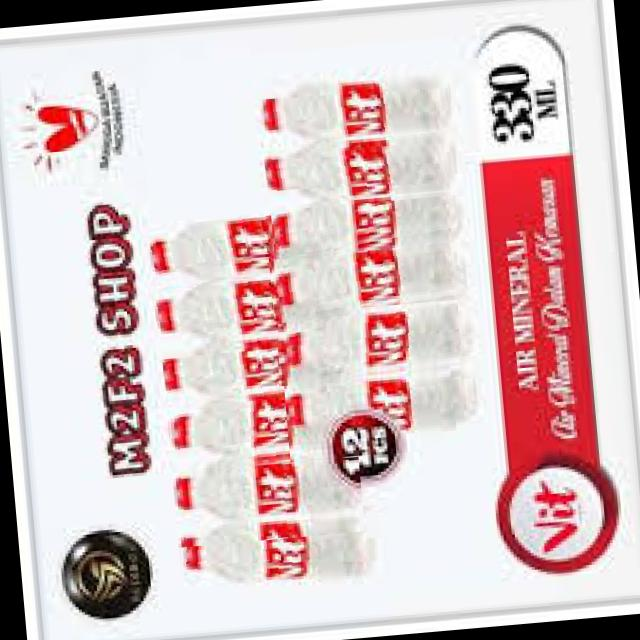plastic bottle: (168, 488, 394, 605), (162, 438, 365, 547), (160, 319, 363, 413), (164, 382, 368, 474), (282, 356, 458, 461), (150, 265, 348, 358), (147, 208, 350, 290), (272, 298, 462, 385), (264, 59, 454, 145), (268, 241, 464, 323), (263, 133, 451, 204), (271, 194, 458, 258)
